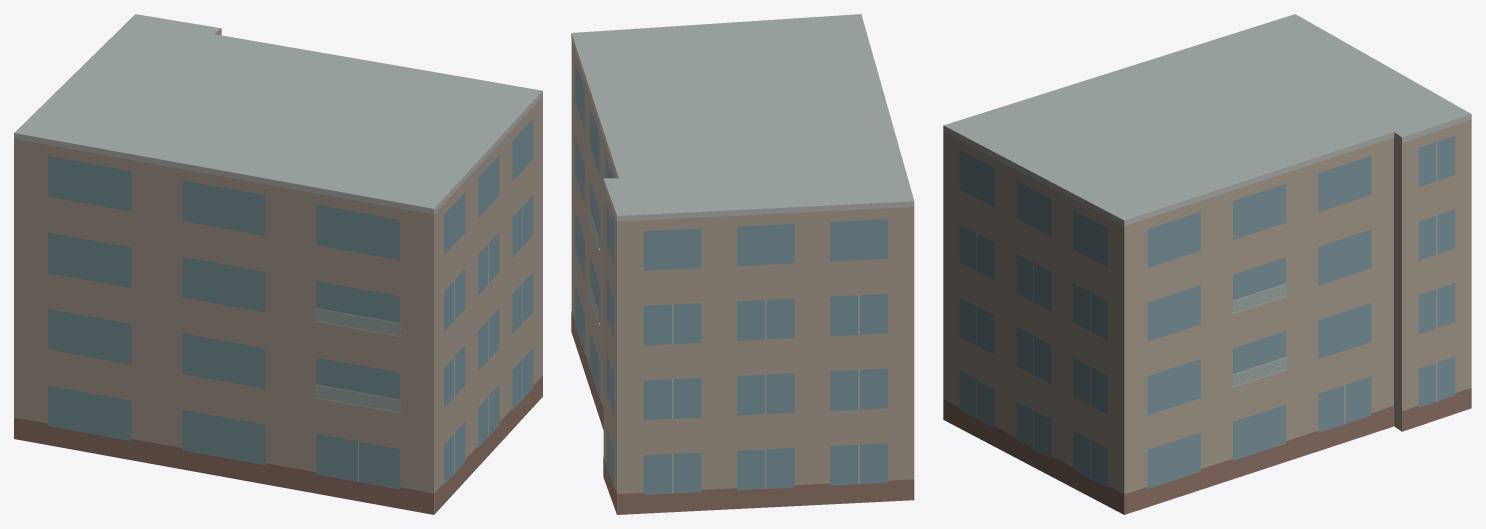
The model's file is survey-upis-32689353.glb.
The picture shows the model from 3 angles, left to right: view 1: azimuth 30°, elevation 25°; view 2: azimuth 150°, elevation 25°; view 3: azimuth 270°, elevation 25°; orthographic projection. The views are drawn at different scales.
Visible parts, largest first — view 1: survey-upis-32689353.tmp; view 2: survey-upis-32689353.tmp; view 3: survey-upis-32689353.tmp.
Boxes of the visible parts, <box> form: survey-upis-32689353.tmp: <box>14,14,542,514</box>; survey-upis-32689353.tmp: <box>571,14,914,514</box>; survey-upis-32689353.tmp: <box>943,14,1471,514</box>.
Bounding box in the file's own units: 19.57 × 13 × 21.14.
